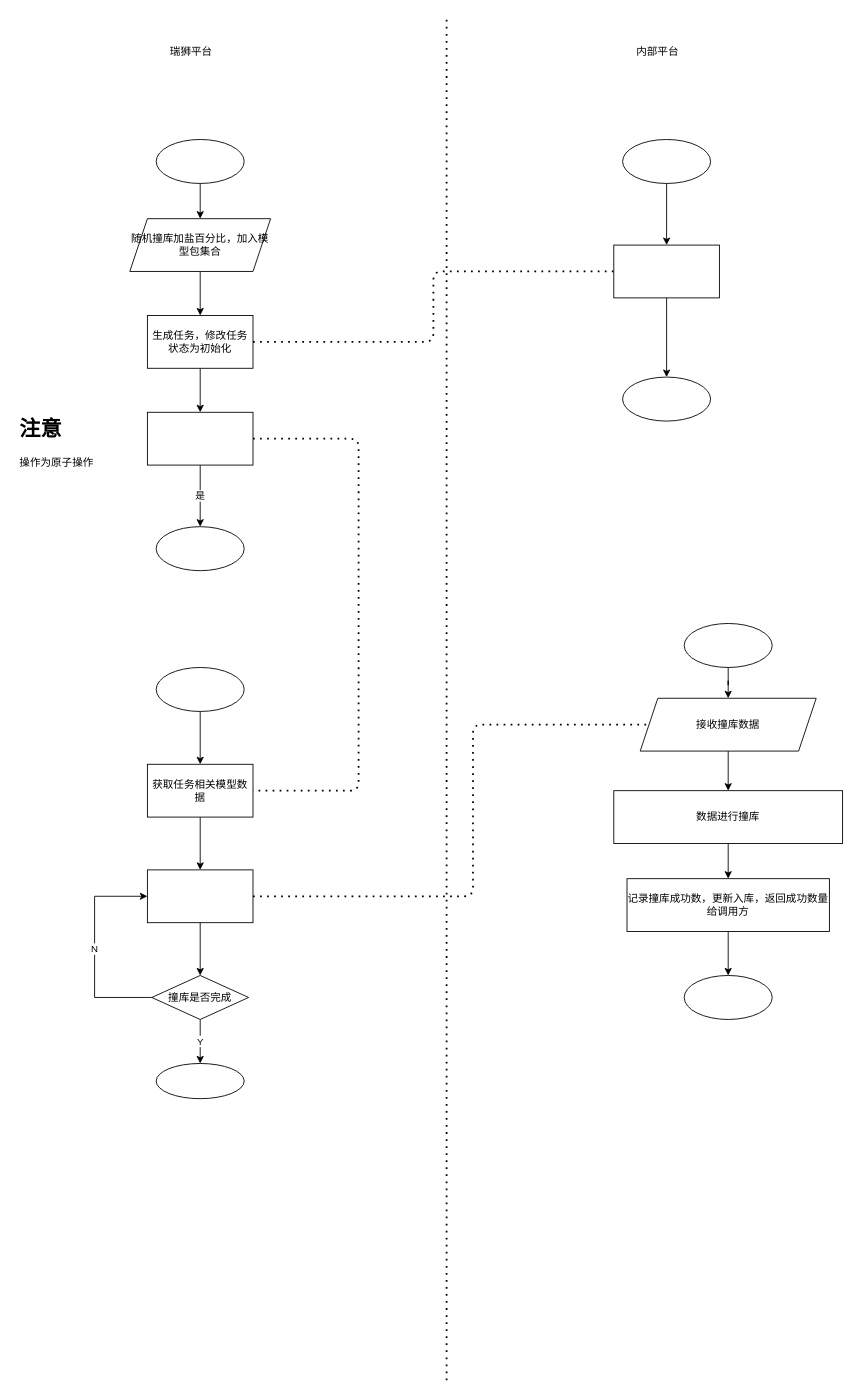
This 858x1397 diagram has some shape labels left out. Each missing label, with the centre of its shape:
修改状态为运行中，任务ID入消息队列: pixel 200 438
拆解模型数据，分段进行撞库: pixel 200 896
生成任务相关的命中记录: pixel 666 271
